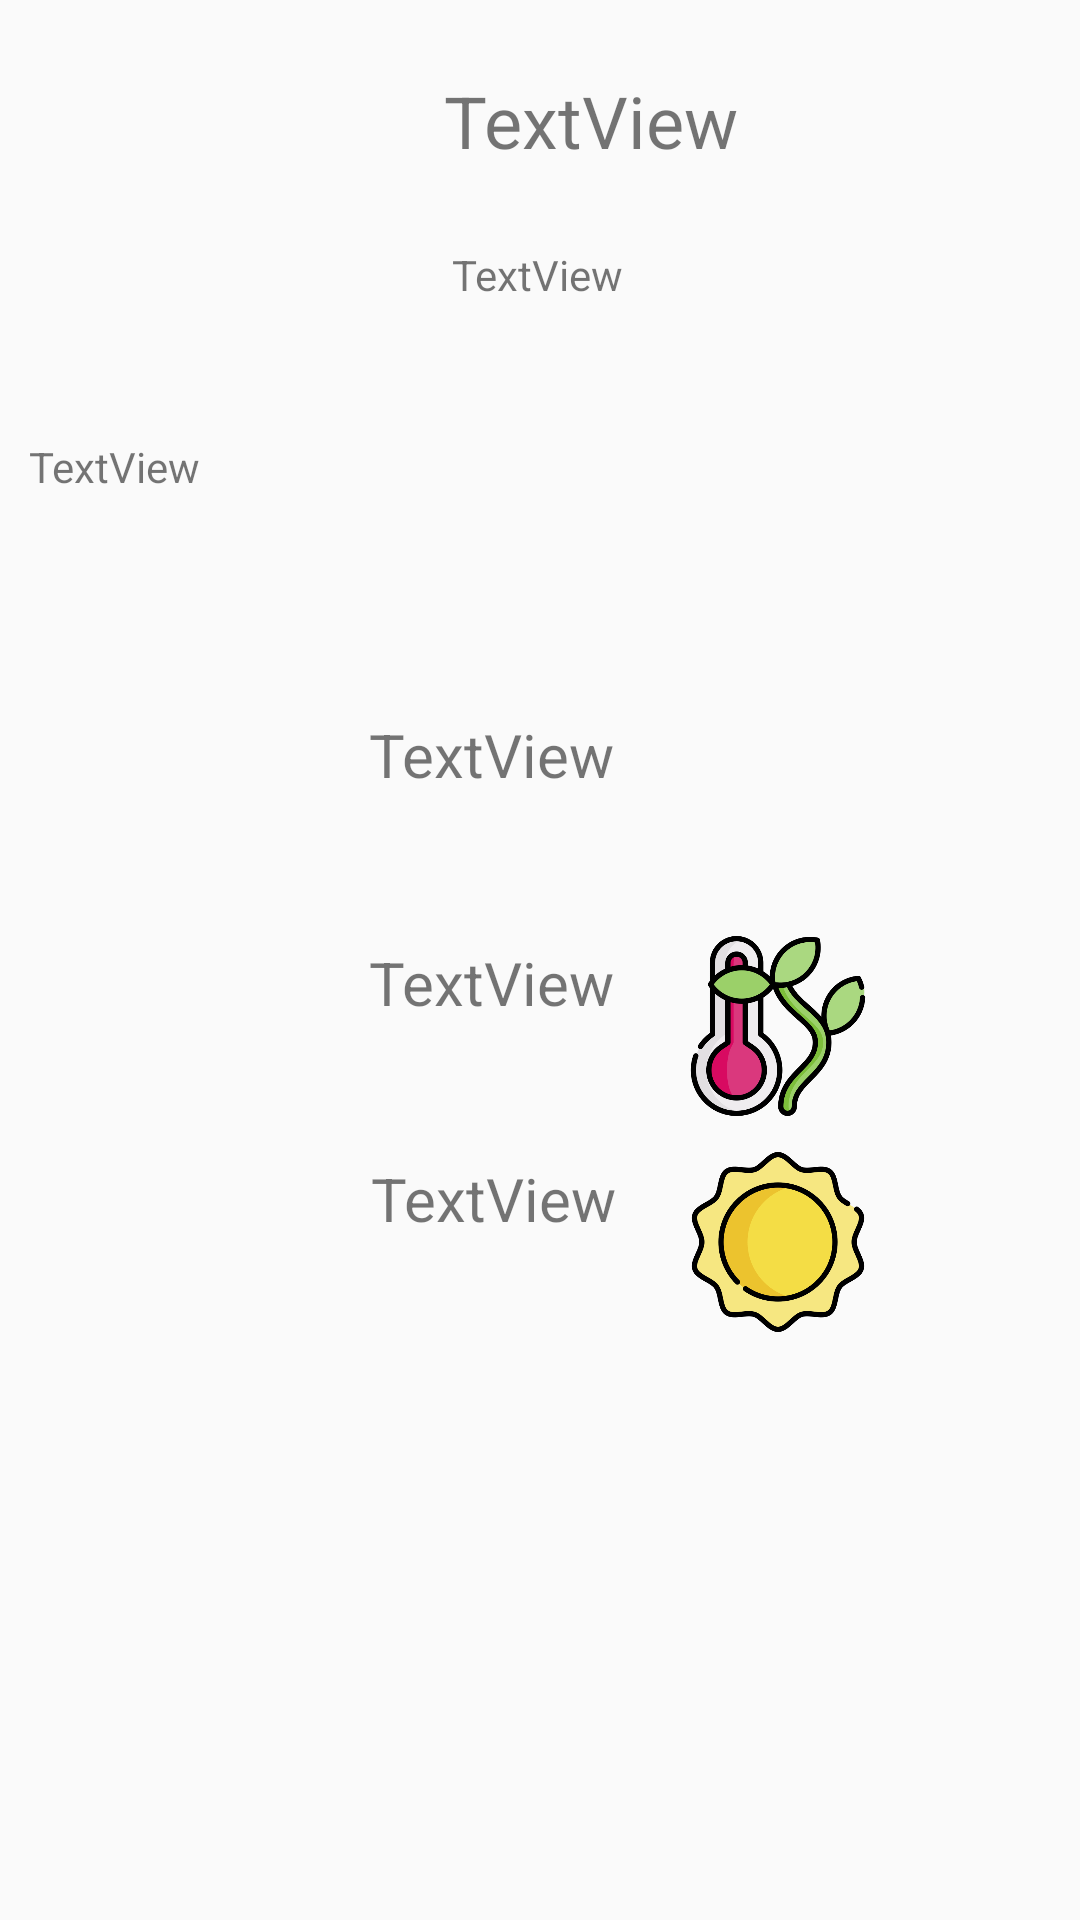

Icon bounding boxes for this 1080px x 1920px phone screenshot, format bbox=(x1, y1, x2, y2):
sun: bbox=(692, 1152, 864, 1332)
temperature: bbox=(691, 936, 865, 1116)
